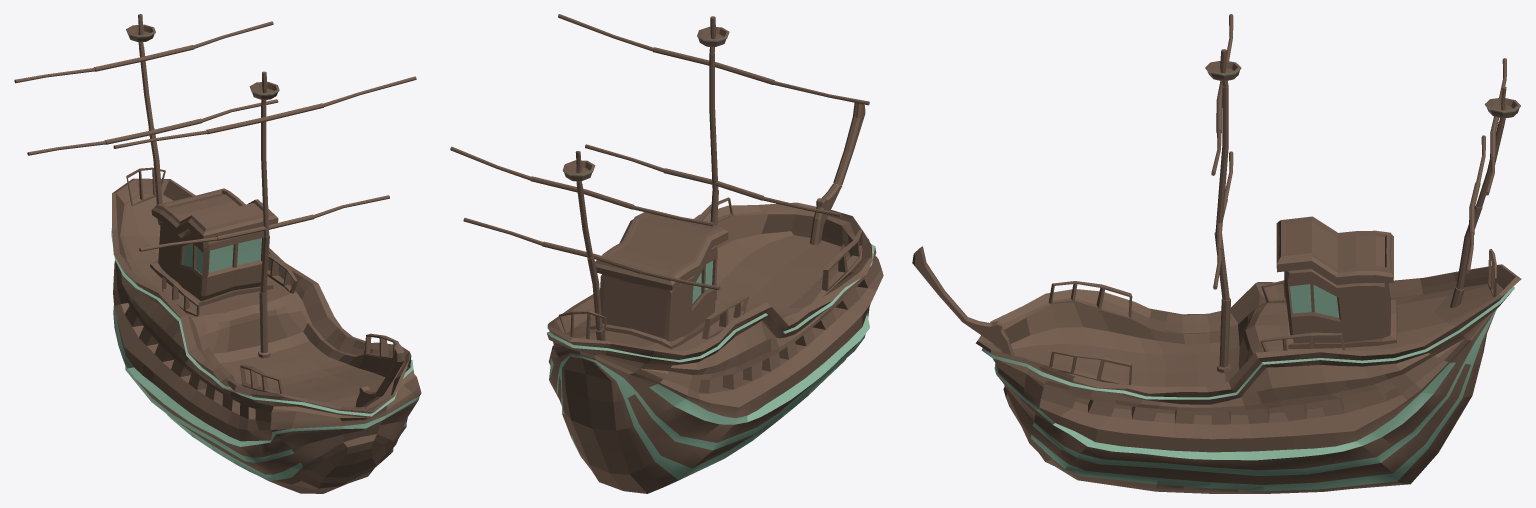
File: shipWreck1.fbx
3 views of the same model, side by side, from view 1: azimuth 30°, elevation 25°; view 2: azimuth 150°, elevation 25°; view 3: azimuth 270°, elevation 25° (orthographic). The views are drawn at different scales.
Visible parts, largest first — view 1: shipWreck; view 2: shipWreck; view 3: shipWreck.
Boxes of the visible parts, x1,y1,x2,y2 form: shipWreck: (14,14,421,493); shipWreck: (450,14,883,493); shipWreck: (912,14,1521,493).
Size of the model in its own units: 1601 by 2039 by 2547.
